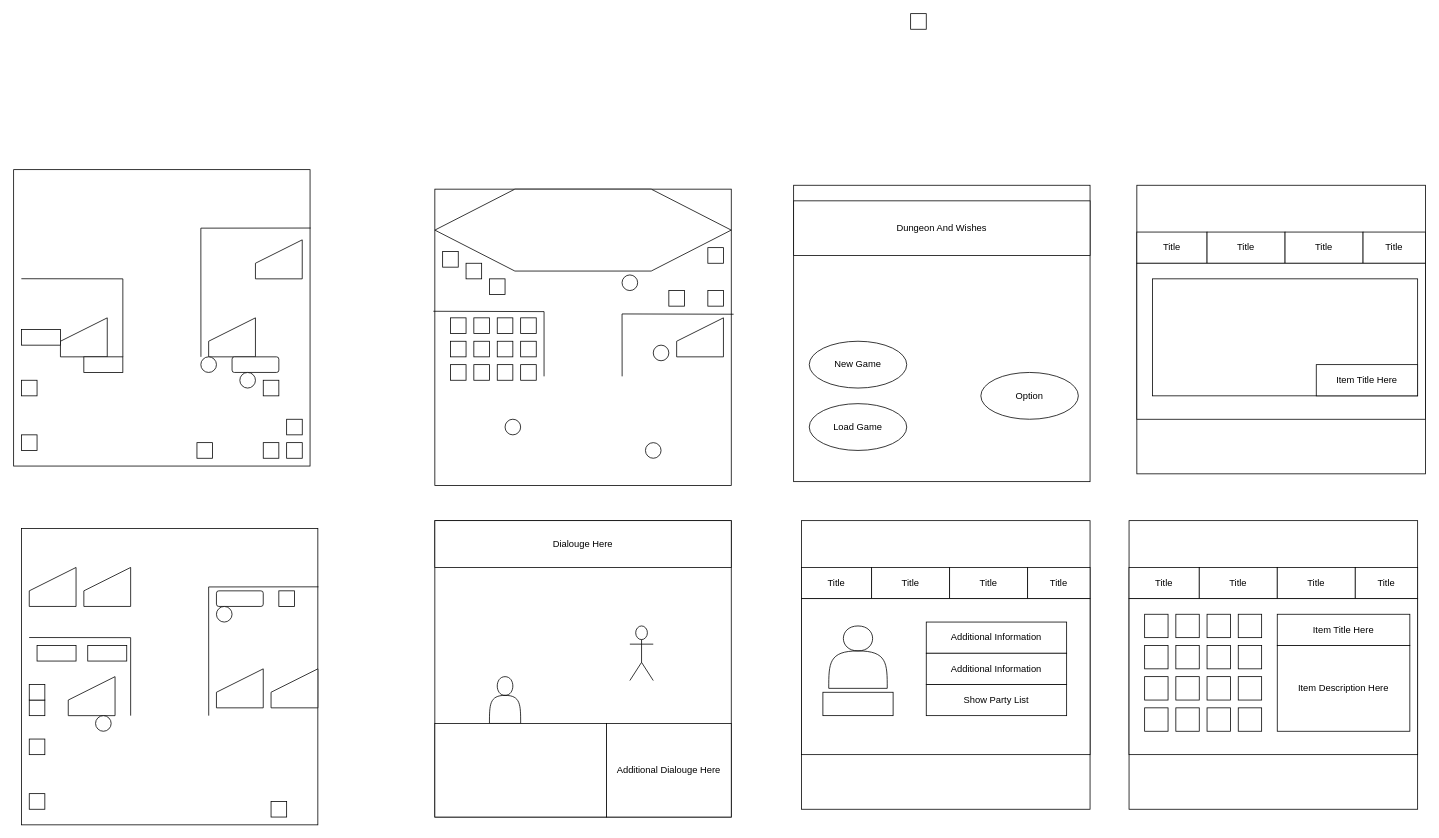
Some shapes in this 1439 by 838 pixel diagram are drawn without their labels. Each missing label, with the box of its shape:
Map Here: (1152, 278, 1418, 396)
Player Name: (822, 691, 893, 716)
Player Option Here: (434, 723, 606, 817)
